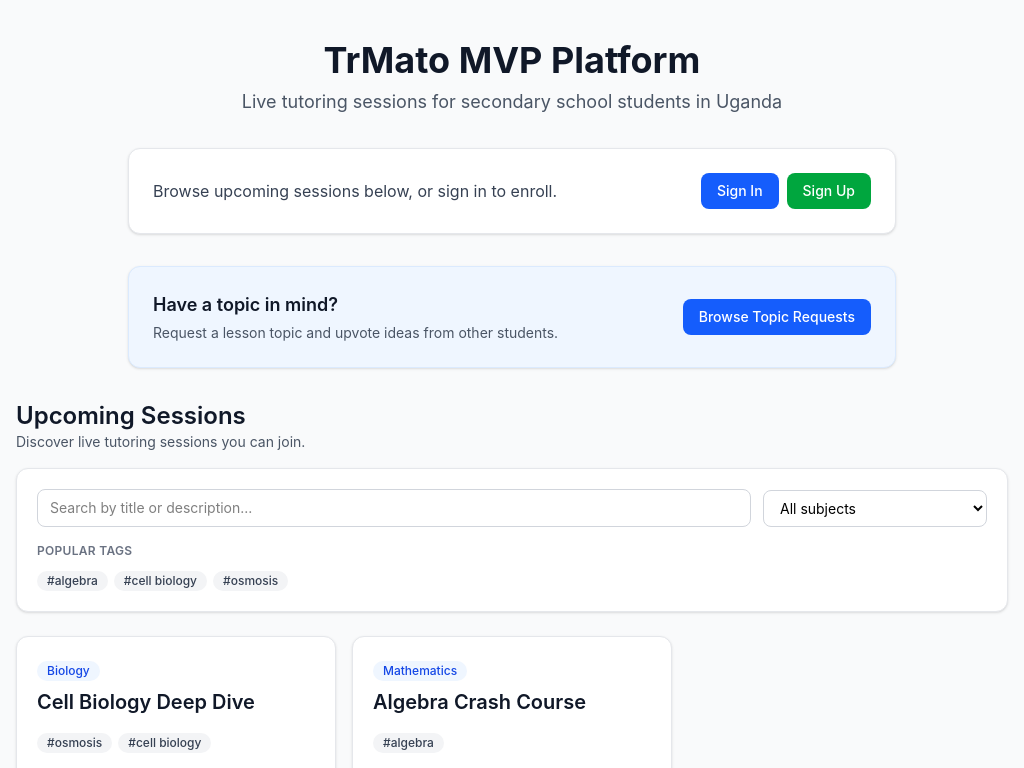
Test: LandingPage — filter state preservation (Req 16.15) › keeps the search query applied after a SessionCard is clicked
Note: Apply a search filter and flush the debounce window
Type "cell" into the search field named "search sessions" at {"x": 394, "y": 508}, box left=37, top=489, right=751, bottom=527
Wait 300 ms
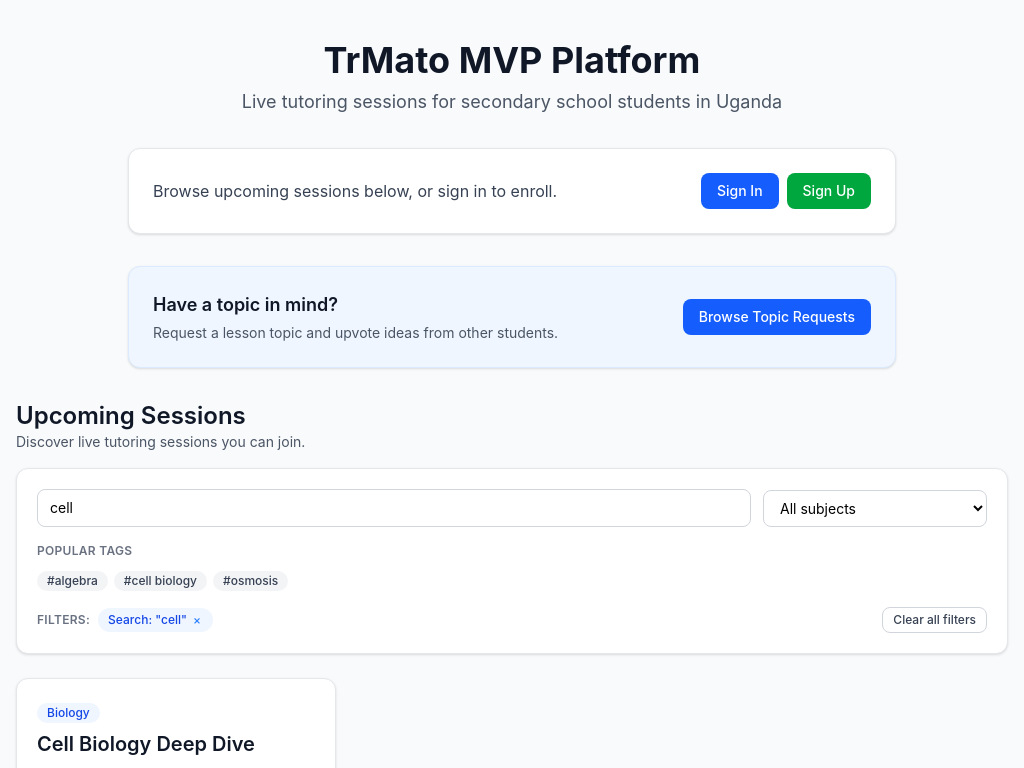
Expected: the button "Algebra Crash Course" is gone
Note: Opens the Session_Modal by clicking the card
Click the heading "Cell Biology Deep Dive" at {"x": 146, "y": 744}, box left=37, top=732, right=255, bottom=756
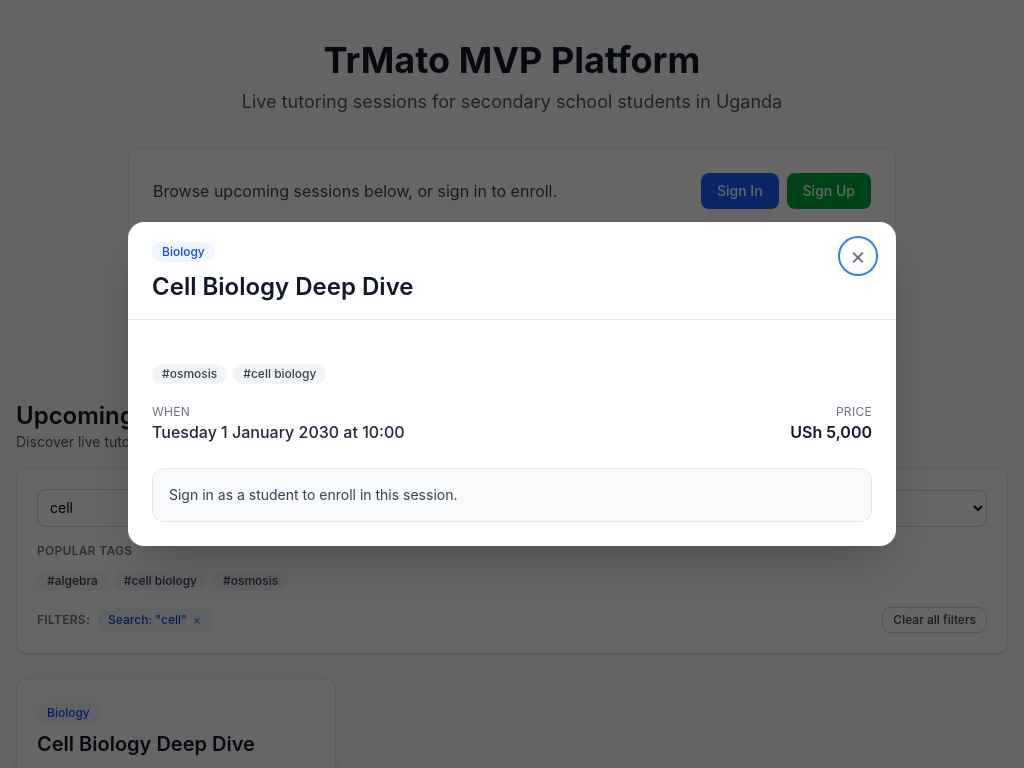
Expected: the button "Algebra Crash Course" is not shown
Expected: the dialog is shown
